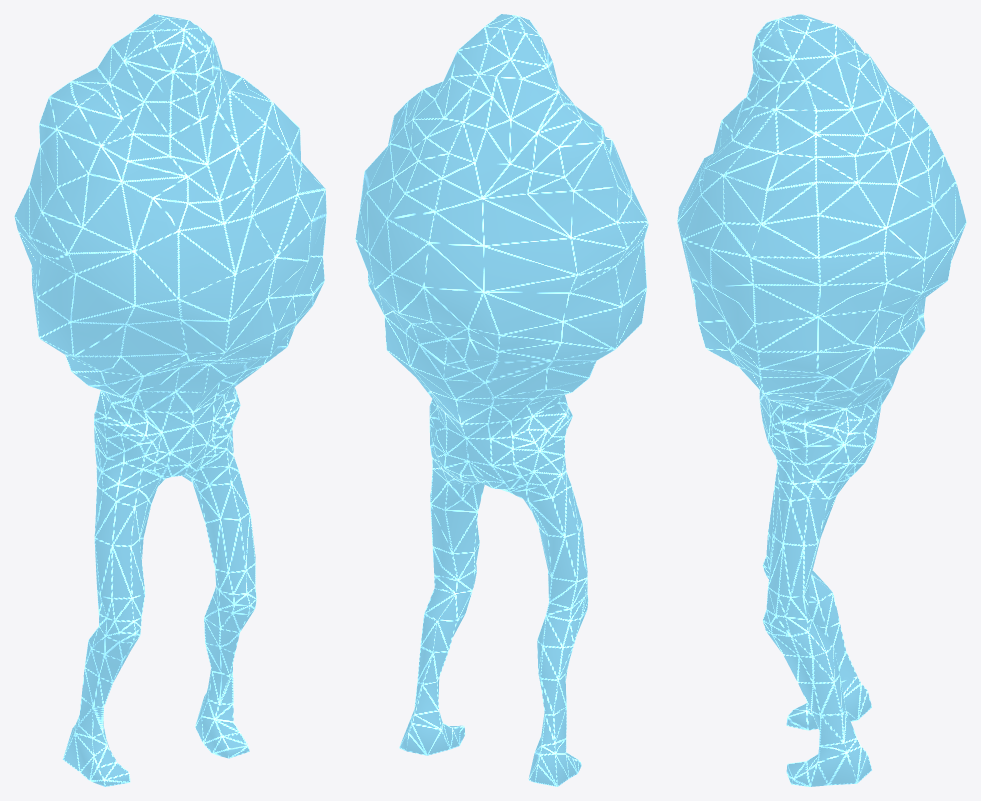
File: flesh.gltf
The picture shows the model from 3 angles, left to right: view 1: azimuth 30°, elevation 25°; view 2: azimuth 150°, elevation 25°; view 3: azimuth 270°, elevation 25°; orthographic projection. The views are drawn at different scales.
Visible parts, largest first — view 1: flesh; view 2: flesh; view 3: flesh.
Boxes of the visible parts, box(x1,y1,x2,y2) form: flesh: box(14, 14, 326, 786); flesh: box(355, 14, 648, 786); flesh: box(677, 14, 966, 786).
Bounding box in the file's own units: 17.8 × 47.02 × 16.82.
Materials: 1 (1 with a texture image).
